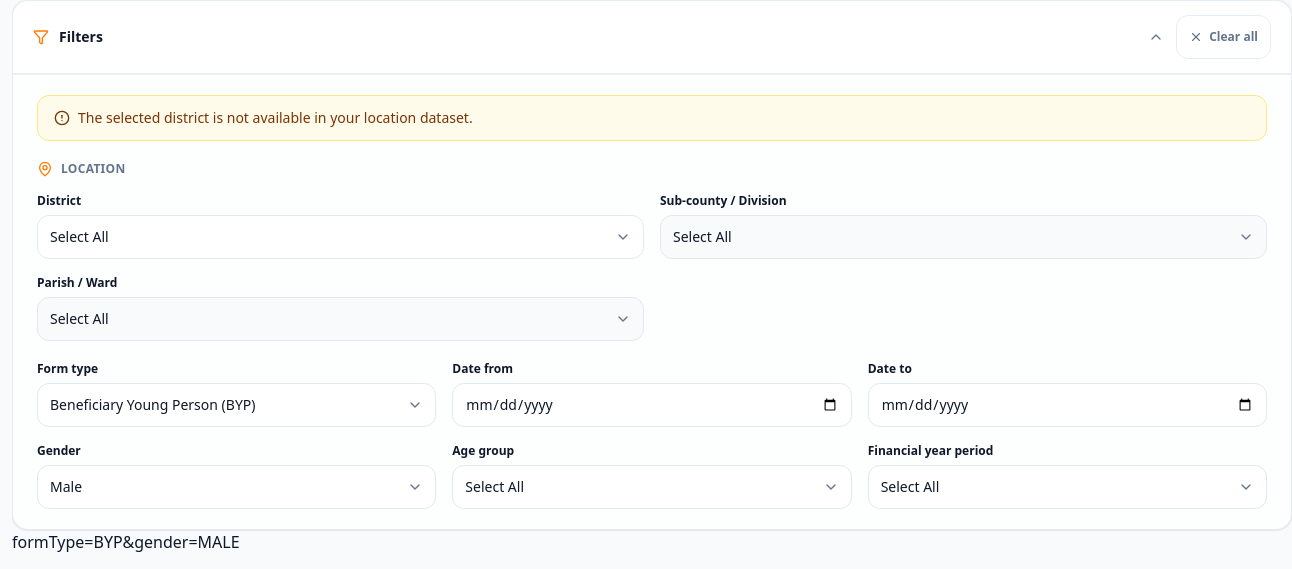
Scenario: PublicDashboardFilterPanel › clears all filters and URL params when Clear all is clicked
Click the button with test id "public-dashboard-filter-clear-all".
click(1224, 37)  # box 1176,15 -> 1271,59
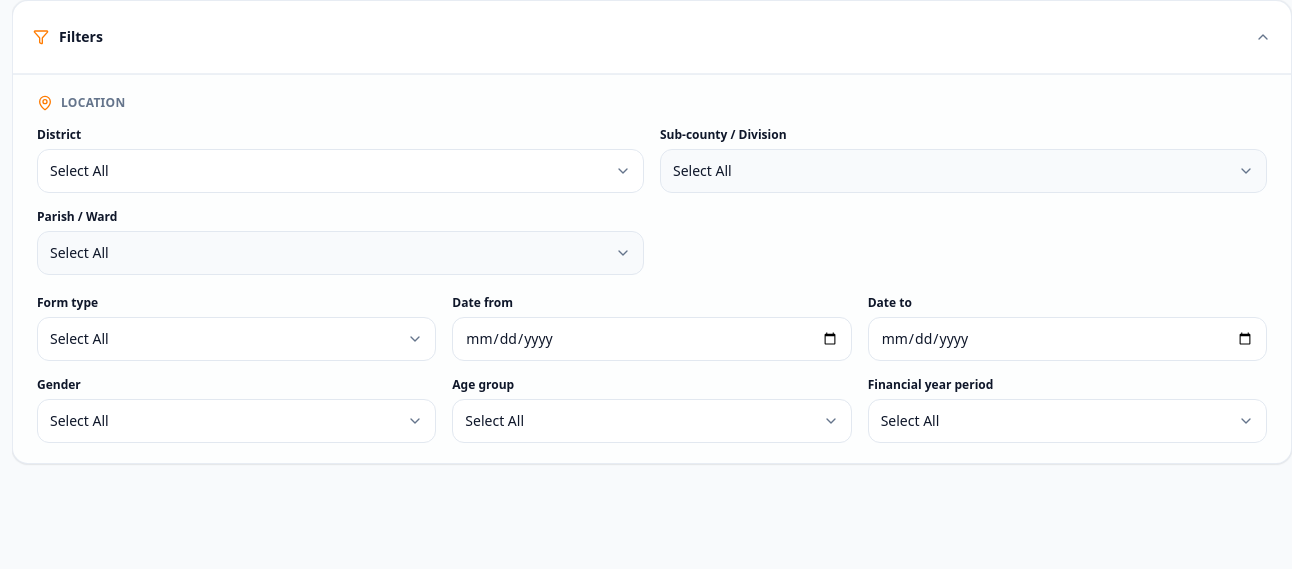
Check: the button with test id "public-dashboard-filter-clear-all" is gone
